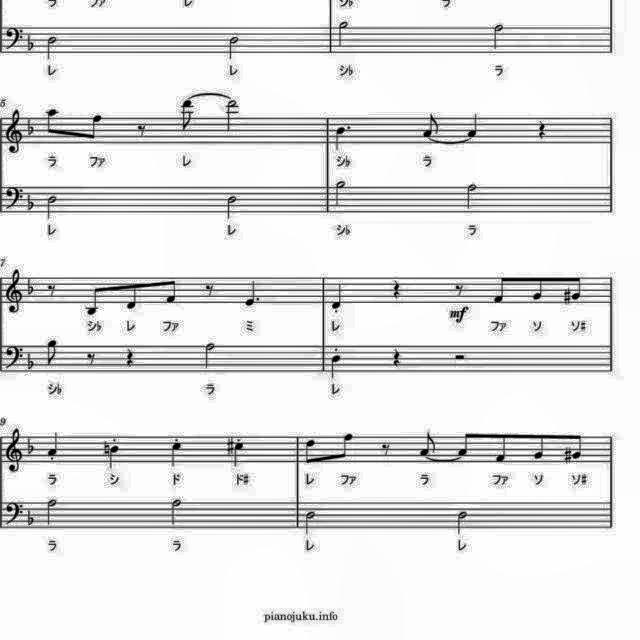Bass-clef: (1, 342, 25, 374), (1, 500, 23, 530), (1, 183, 23, 213), (1, 23, 23, 53)
Bemol: (24, 113, 40, 139), (25, 504, 39, 528), (24, 436, 40, 456), (26, 30, 38, 54), (26, 275, 38, 297), (26, 350, 38, 370), (26, 193, 38, 213)
Diez: (560, 438, 576, 466)
Eighth-note: (84, 111, 108, 145), (335, 427, 359, 461), (84, 282, 106, 318), (178, 96, 198, 134), (416, 428, 440, 459), (42, 104, 62, 140), (124, 277, 144, 313), (490, 273, 510, 307), (160, 274, 180, 308), (492, 430, 512, 464), (418, 112, 442, 140), (302, 436, 322, 468), (531, 272, 551, 304), (454, 429, 474, 461), (44, 336, 64, 368), (566, 273, 586, 305), (532, 431, 552, 462), (568, 430, 586, 462)
Eighth-rest: (378, 436, 396, 460), (133, 121, 151, 141), (42, 280, 58, 300), (202, 278, 218, 298), (82, 350, 98, 370), (452, 280, 466, 300)
Half-note: (221, 97, 241, 135), (461, 179, 482, 213), (334, 17, 354, 51), (168, 496, 188, 530), (222, 32, 242, 64), (488, 20, 508, 52), (221, 192, 241, 224), (452, 507, 472, 537), (332, 177, 350, 210), (201, 340, 219, 372), (45, 32, 63, 64), (42, 496, 59, 528), (303, 509, 321, 538), (42, 191, 59, 221)
Half-rest: (450, 349, 470, 363)
Quarter-dot: (332, 122, 356, 154), (240, 276, 264, 308)
Quarter-note: (327, 282, 347, 314), (42, 430, 62, 462), (230, 438, 250, 469), (168, 439, 186, 469), (463, 112, 482, 140), (328, 352, 346, 380), (105, 444, 123, 471)
Quarter-rest: (385, 342, 403, 370), (122, 343, 140, 369), (386, 274, 402, 302), (532, 118, 550, 142)
Treble-clef: (2, 266, 26, 316), (3, 428, 25, 477), (2, 108, 24, 156)
